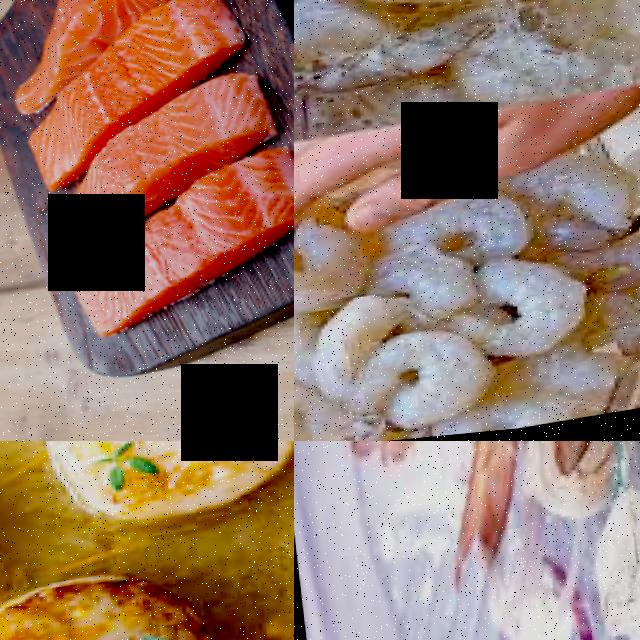salmon: (96, 146, 294, 308), (73, 76, 284, 207), (45, 0, 251, 130), (38, 0, 201, 43)
shrimp: (338, 323, 489, 441), (561, 441, 640, 640), (466, 253, 589, 367), (360, 210, 524, 295), (294, 222, 359, 320)
spinach: (35, 441, 294, 543), (0, 566, 218, 640)
